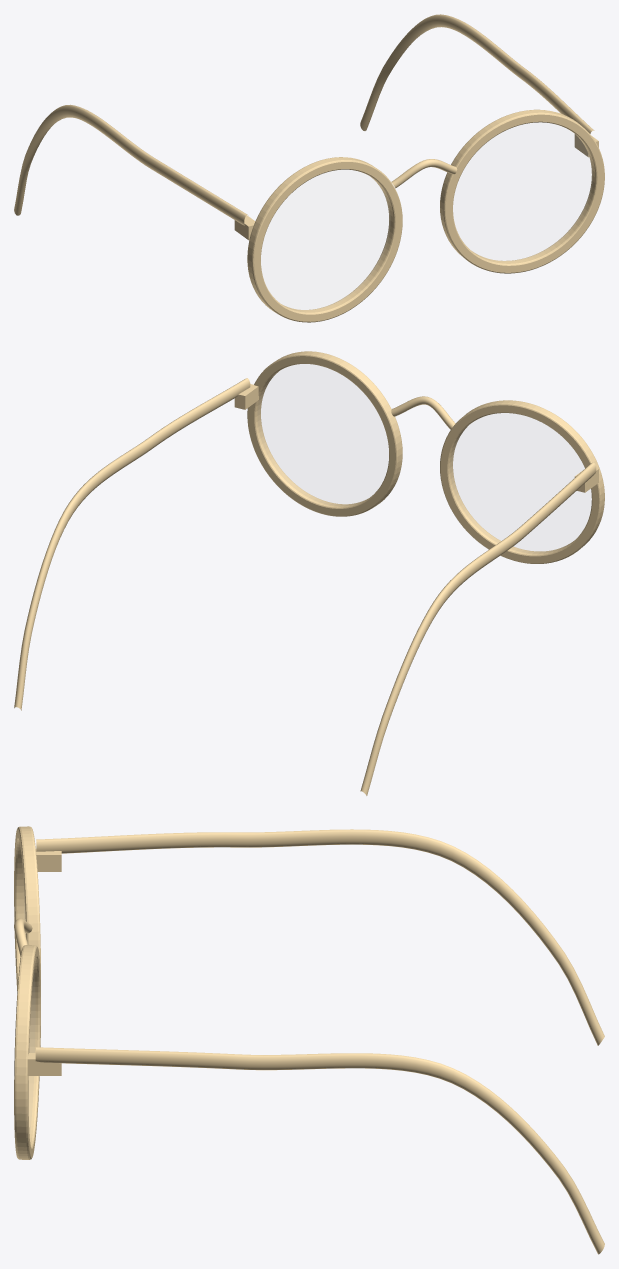
File: glasses-round.glb
3 renders of one model, top to bottom at view 1: azimuth 30°, elevation 25°; view 2: azimuth 150°, elevation 25°; view 3: azimuth 270°, elevation 25°, orthographic. The views are drawn at different scales.
Visible parts, largest first — view 1: rim_l, rim_r, temple_r, temple_l, bridge; view 2: rim_l, rim_r, temple_l, temple_r, bridge; view 3: temple_l, temple_r, rim_l, rim_r.
Boxes of the visible parts, bbox=[...] form: rim_l: bbox=[440, 109, 604, 273]; rim_r: bbox=[247, 157, 402, 322]; temple_r: bbox=[14, 104, 248, 225]; temple_l: bbox=[360, 14, 594, 133]; bridge: bbox=[391, 159, 457, 188]; rim_l: bbox=[247, 351, 402, 516]; rim_r: bbox=[440, 400, 604, 563]; temple_l: bbox=[14, 378, 250, 710]; temple_r: bbox=[360, 462, 596, 795]; bridge: bbox=[391, 396, 455, 429]; temple_l: bbox=[35, 1047, 604, 1254]; temple_r: bbox=[36, 829, 604, 1045]; rim_l: bbox=[14, 945, 40, 1159]; rim_r: bbox=[14, 826, 40, 990].
Size of the model in its own units: 0.1266 by 0.0658 by 0.139.
